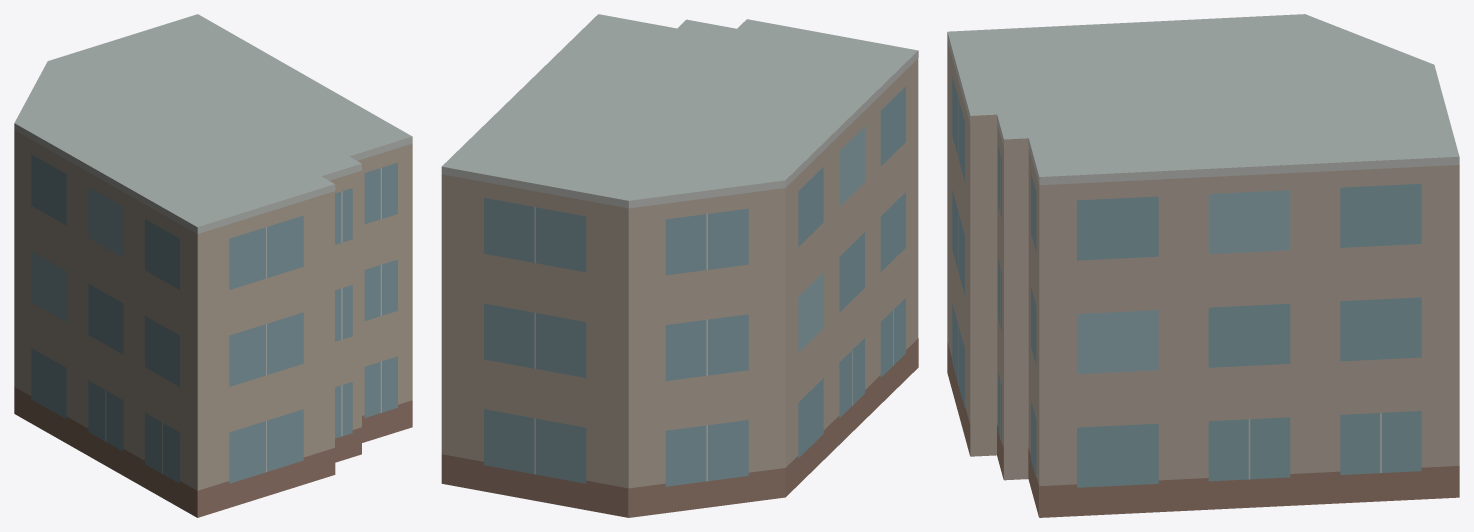
The model's file is survey-upis-32492706.glb.
The picture shows the model from 3 angles, left to right: view 1: azimuth 30°, elevation 25°; view 2: azimuth 150°, elevation 25°; view 3: azimuth 270°, elevation 25°; orthographic projection. The views are drawn at different scales.
Parts seen in each view (by area): view 1: survey-upis-32492706.tmp; view 2: survey-upis-32492706.tmp; view 3: survey-upis-32492706.tmp.
Boxes of the visible parts, left/top/right/bottom form: survey-upis-32492706.tmp: left=14, top=14, right=412, bottom=517; survey-upis-32492706.tmp: left=441, top=14, right=918, bottom=517; survey-upis-32492706.tmp: left=947, top=14, right=1459, bottom=517.
Bounding box in the file's own units: 10.48 × 10.2 × 13.9.
